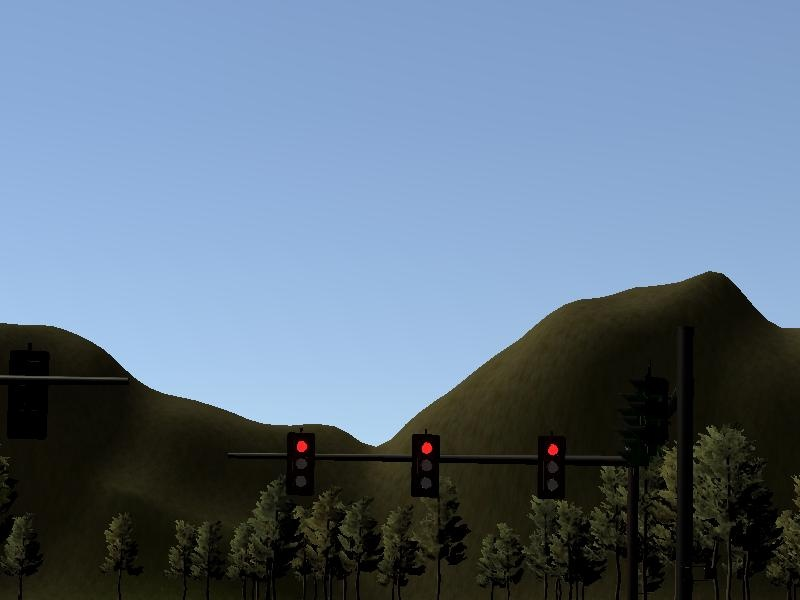red: (286, 432, 316, 497), (411, 433, 441, 498), (538, 435, 568, 500)
